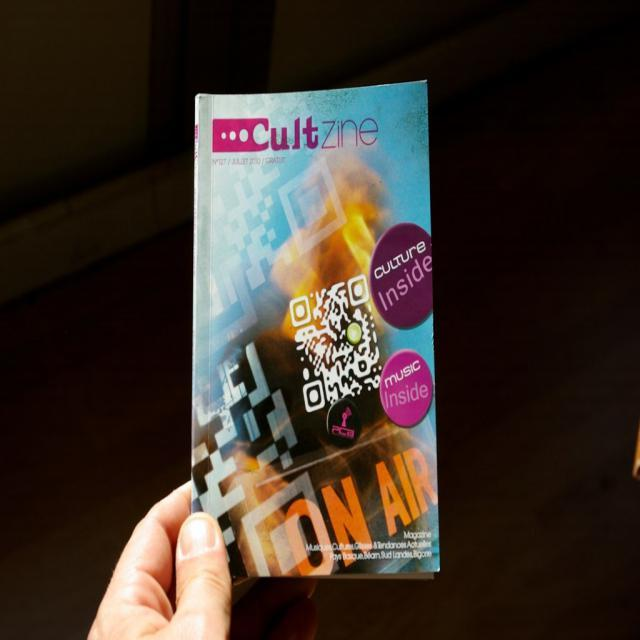qrcode: (290, 275, 386, 414)
